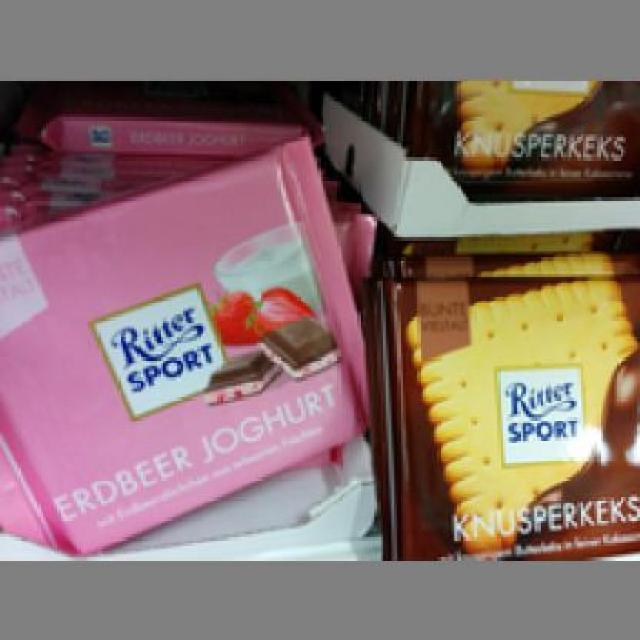Chocolate: (0, 144, 355, 552), (372, 274, 638, 560)
